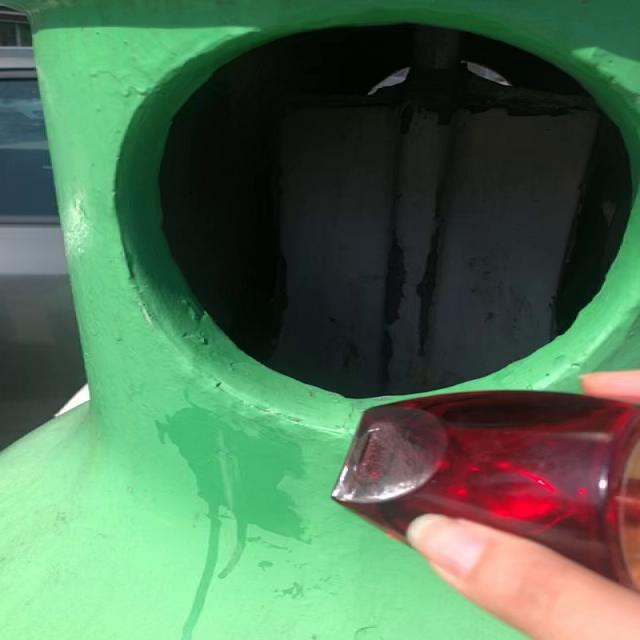glass: (333, 392, 640, 590)
